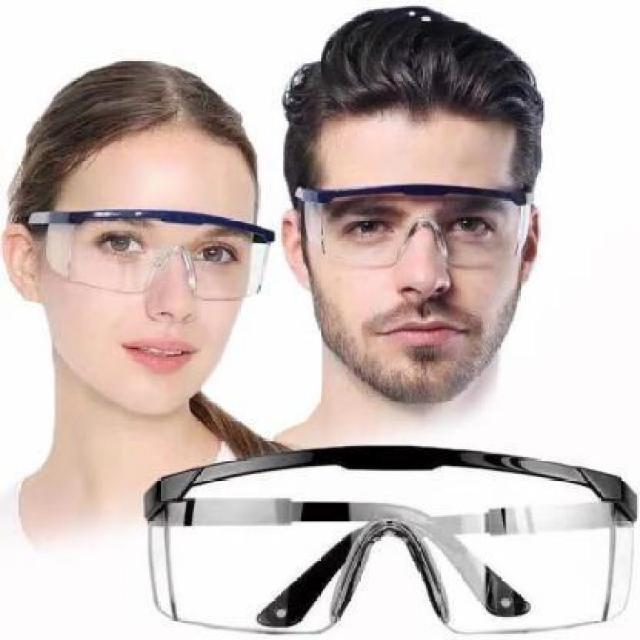Goggles: (137, 438, 640, 634), (14, 203, 279, 302), (291, 182, 531, 273)
